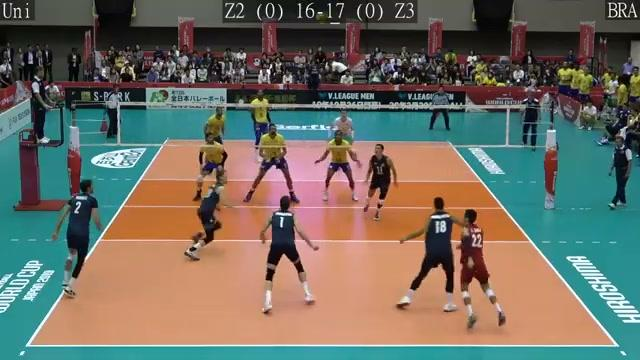ball: (313, 10, 326, 22)
